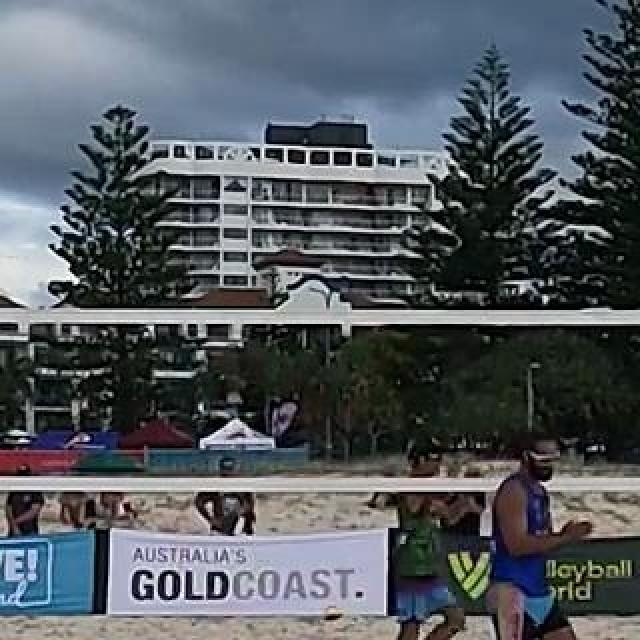volleyball: (323, 604, 341, 624)
